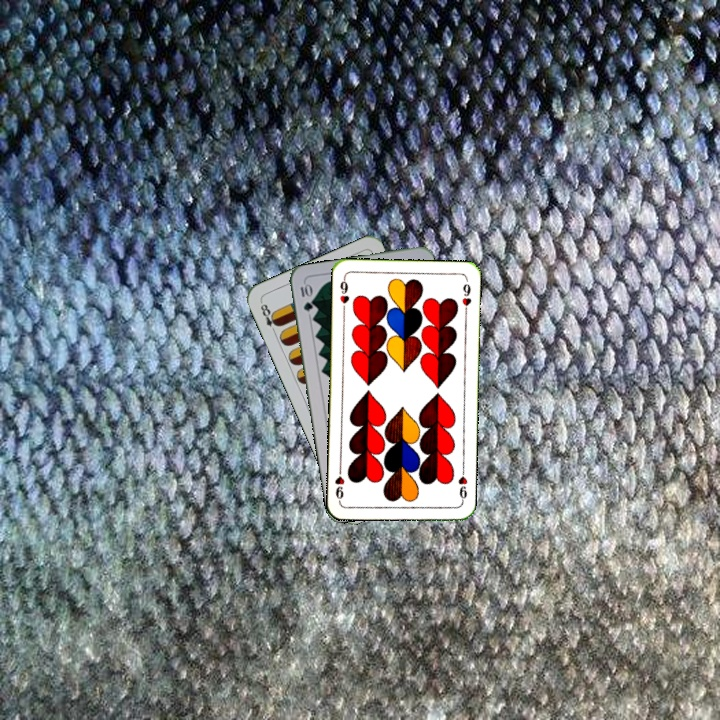E8: (256, 298, 282, 337)
G10: (296, 279, 315, 314)
H9: (336, 274, 352, 314), (454, 465, 470, 505)
